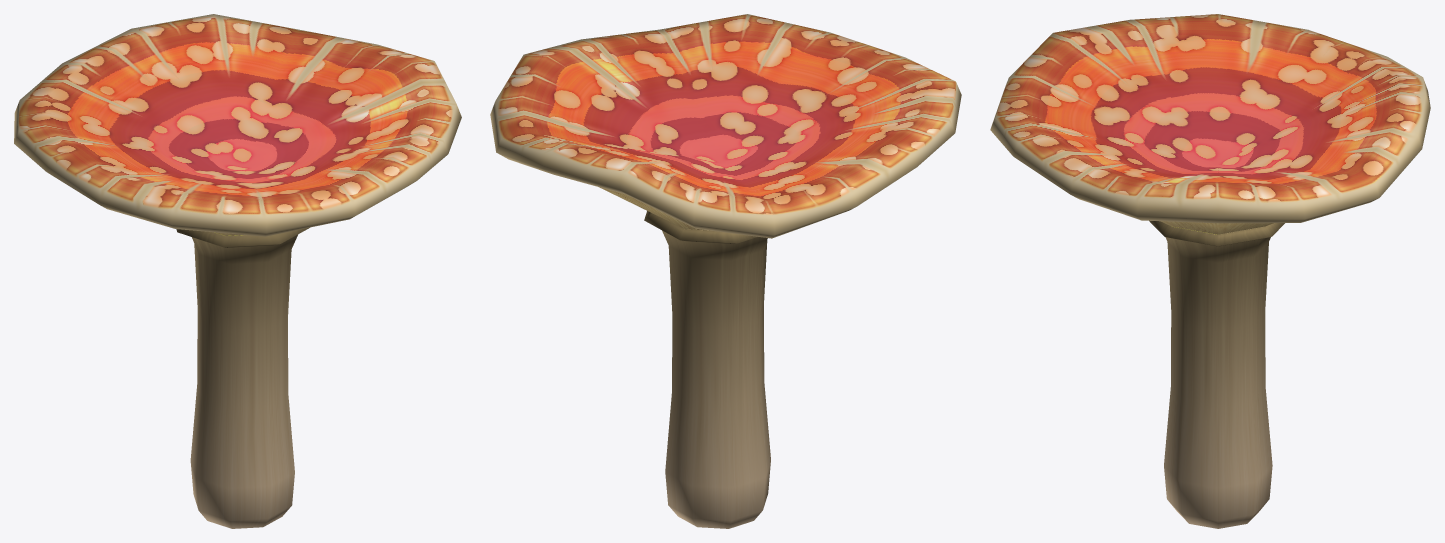
The model's file is ENV1410006.FBX.
The picture shows the model from 3 angles, left to right: view 1: azimuth 30°, elevation 25°; view 2: azimuth 150°, elevation 25°; view 3: azimuth 270°, elevation 25°; orthographic projection.
Visible parts, largest first — view 1: smENV1410006; view 2: smENV1410006; view 3: smENV1410006.
Part boxes in pixels (x1,y1,x2,y2): smENV1410006: (14,14,461,528); smENV1410006: (490,14,961,528); smENV1410006: (990,14,1430,528).
Bounding box in the file's own units: 10.2 × 10.57 × 9.85.
Materials: 1 (1 with a texture image).
